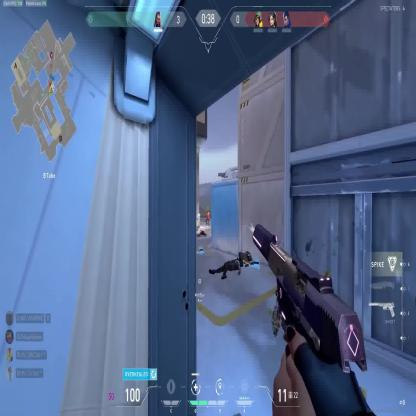enemy: (206, 207, 210, 226)
enemy_head: (207, 208, 209, 212)
